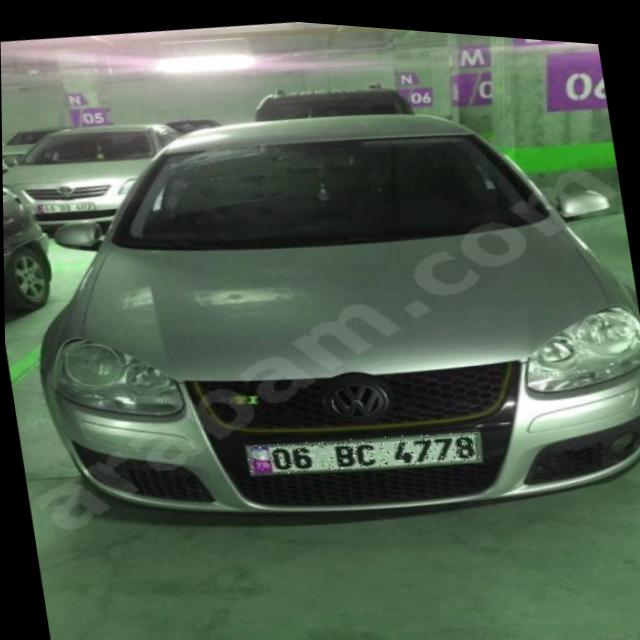license_plate: (244, 410, 479, 486)
